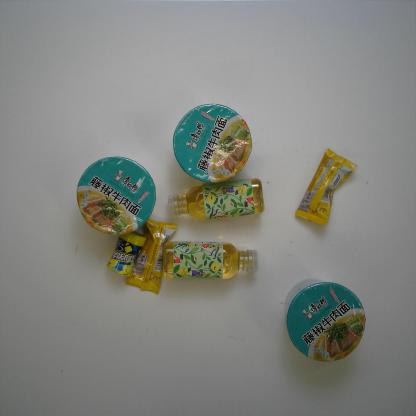Chocolate: (295, 148, 357, 226), (126, 218, 178, 296)
Drink: (167, 178, 265, 222), (162, 239, 258, 280)
Gum: (105, 230, 147, 278)
Instant Noodles: (172, 102, 253, 184), (285, 280, 366, 362), (76, 156, 157, 236)
